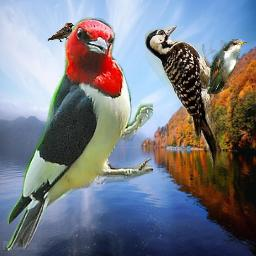Cuckoo: (207, 39, 247, 94)
Swallow: (46, 22, 74, 42)
Woodpecker: (0, 17, 153, 251), (145, 26, 230, 169)
